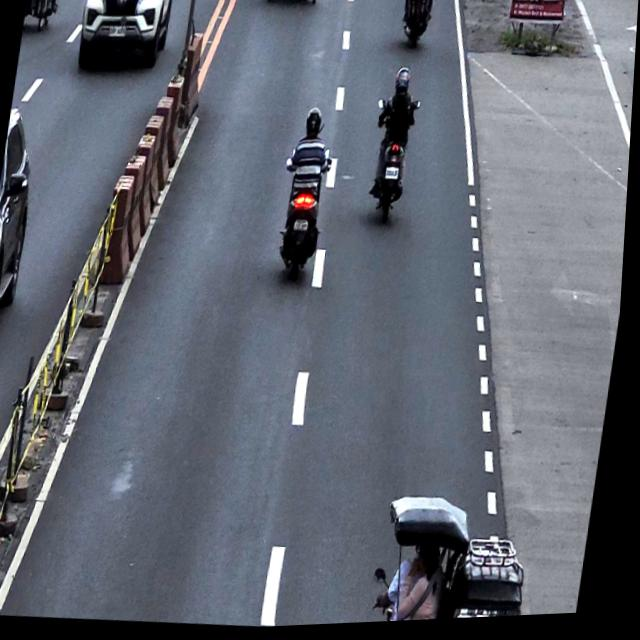Car: (0, 104, 44, 348), (74, 0, 174, 74)
License-Plate: (107, 24, 128, 39), (295, 219, 312, 235), (386, 168, 401, 185)
Motorcycle: (272, 153, 334, 283), (363, 97, 422, 229), (399, 0, 435, 52)
Tricycle: (375, 491, 549, 626), (22, 0, 61, 35)
